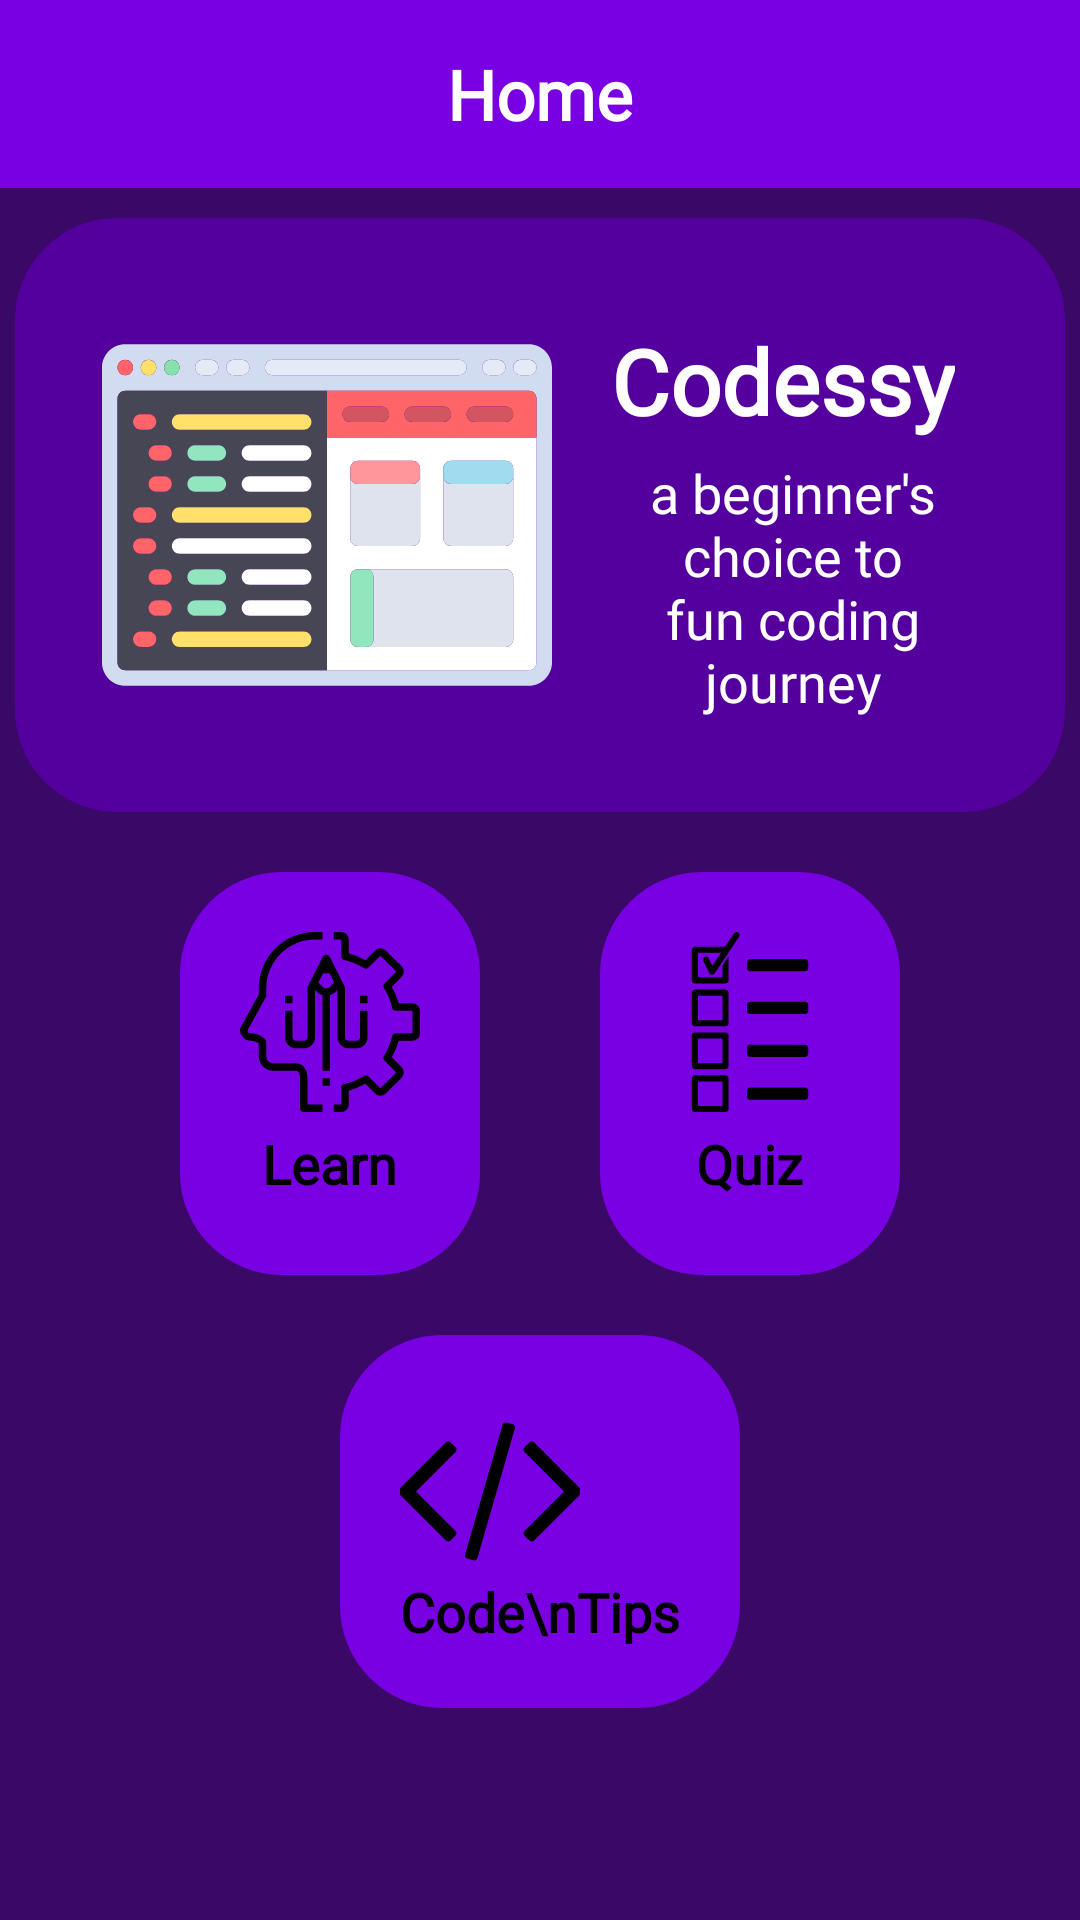

Locate icon controls on the screen. Image size 1080x1920, boxes as Rect(x1, y1, x2, y2).
code tips: Rect(400, 1422, 580, 1561)
